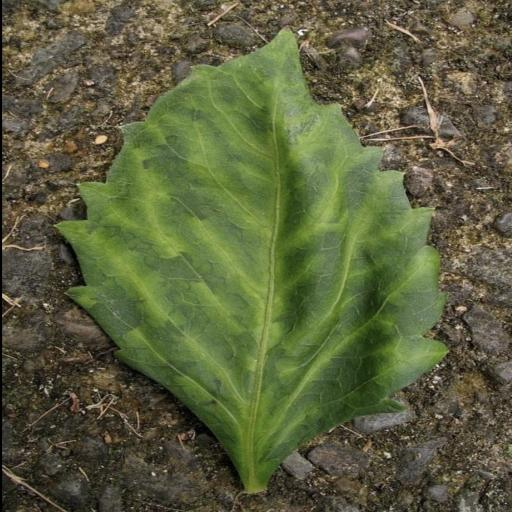disease_tomato: (56, 24, 450, 490)
